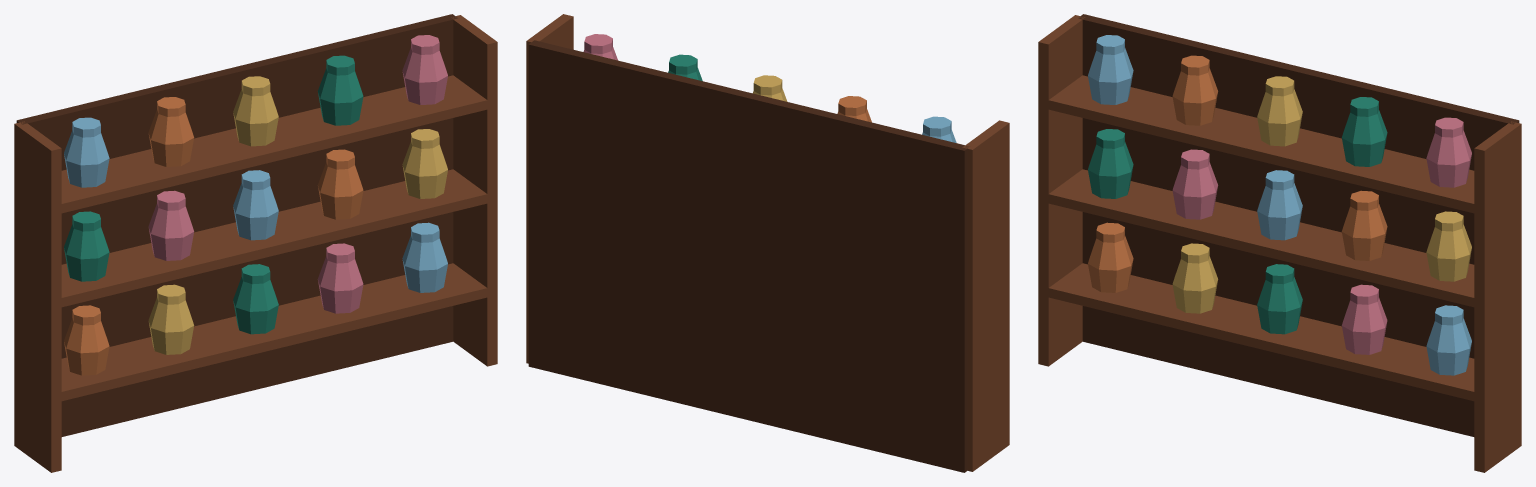
Rendered from shelves.gltf.
3 renders of one model, left to right at view 1: azimuth 30°, elevation 25°; view 2: azimuth 150°, elevation 25°; view 3: azimuth 330°, elevation 25°, orthographic.
Visible parts, largest first — view 1: back, sides, shelf3, shelf1, shelf2, jar8, jar3, jar13, jar9, jar14, jar4, jar1 (+8 smaller); view 2: back, sides, jar13, jar11, jar12, jar15, jar14; view 3: back, sides, shelf1, shelf3, shelf2, jar8, jar3, jar13, jar7, jar12, jar2, jar5 (+8 smaller).
Part boxes in pixels (x1,y1,x2,y2): back: [16, 14, 457, 436]; sides: [14, 15, 497, 472]; shelf3: [56, 75, 492, 213]; shelf1: [56, 263, 492, 401]; shelf2: [57, 169, 492, 307]; jar8: [233, 170, 278, 240]; jar3: [233, 264, 278, 334]; jar13: [233, 76, 278, 146]; jar9: [317, 149, 363, 219]; jar14: [317, 55, 363, 125]; jar4: [317, 243, 363, 313]; jar1: [64, 305, 109, 375]; back: [528, 40, 969, 472]; sides: [526, 14, 1009, 471]; jar13: [753, 75, 787, 101]; jar11: [922, 116, 956, 142]; jar12: [837, 96, 871, 122]; jar15: [583, 34, 617, 60]; jar14: [668, 54, 702, 81]; back: [1078, 14, 1519, 436]; sides: [1038, 15, 1521, 472]; shelf1: [1043, 263, 1479, 402]; shelf3: [1043, 75, 1479, 214]; shelf2: [1043, 169, 1478, 307]; jar8: [1257, 170, 1302, 240]; jar3: [1257, 264, 1302, 334]; jar13: [1257, 76, 1302, 146]; jar7: [1172, 149, 1218, 219]; jar12: [1172, 55, 1218, 125]; jar2: [1172, 243, 1218, 313]; jar5: [1426, 305, 1471, 375].
Size of the model in its own units: 3.48 by 2.4 by 0.54.
